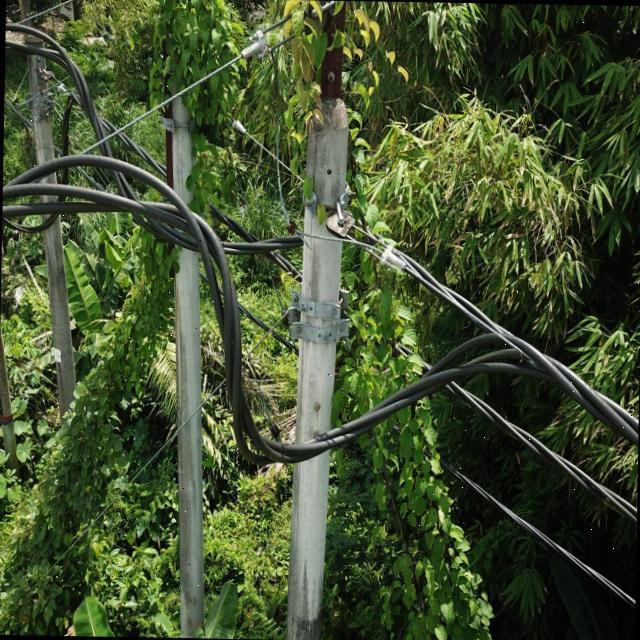critical vegetation: (338, 132, 507, 638), (0, 215, 183, 634)
